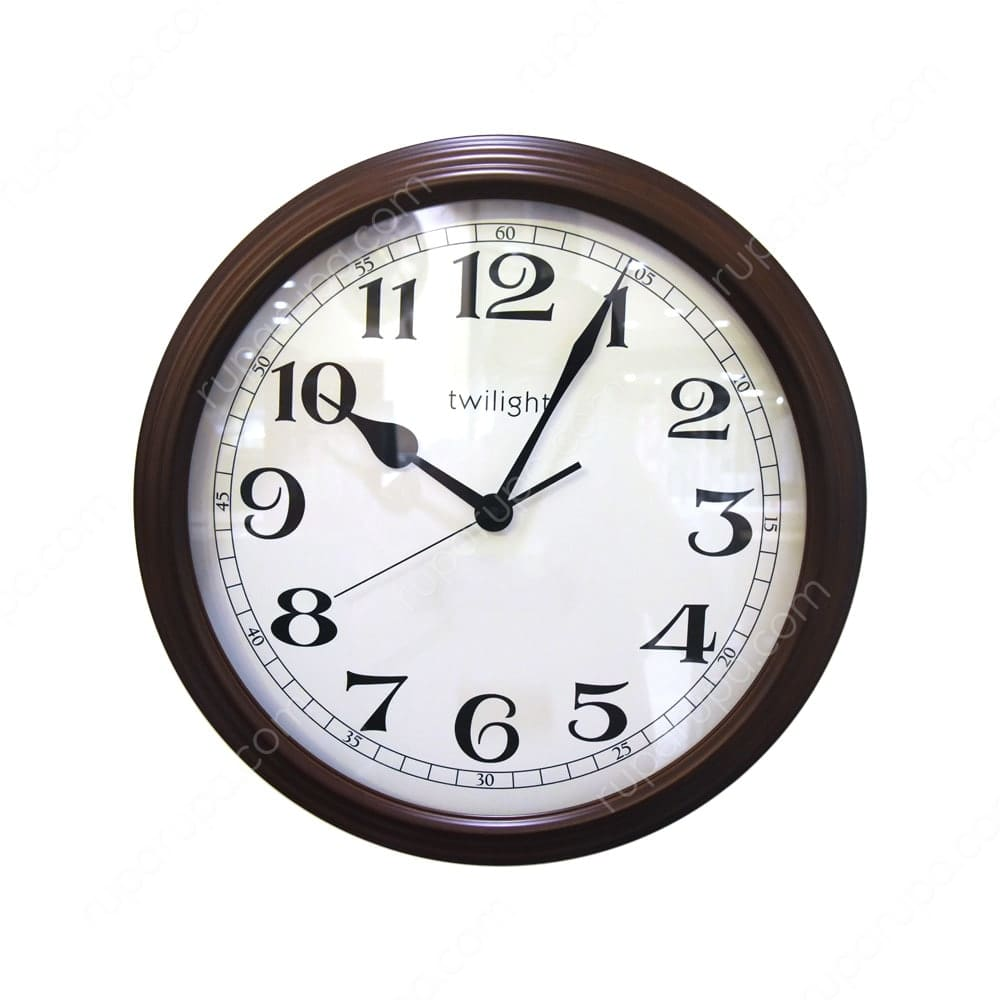jam dinding: (108, 88, 911, 881)
